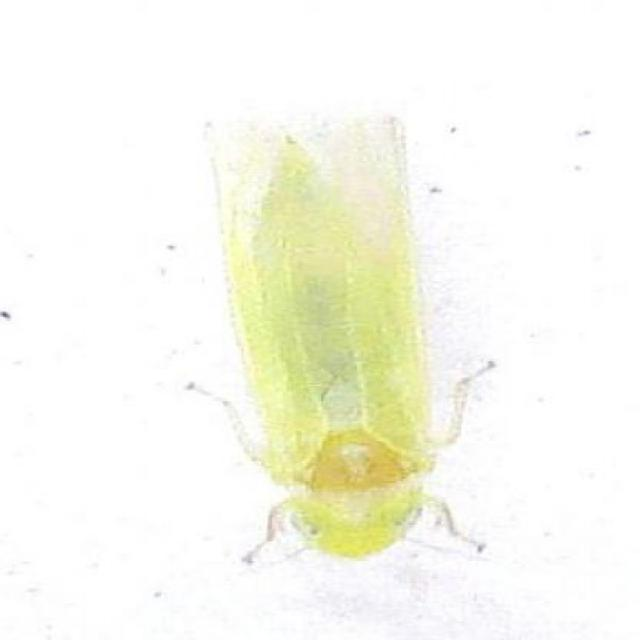green-leafhopper: (184, 129, 496, 562)
